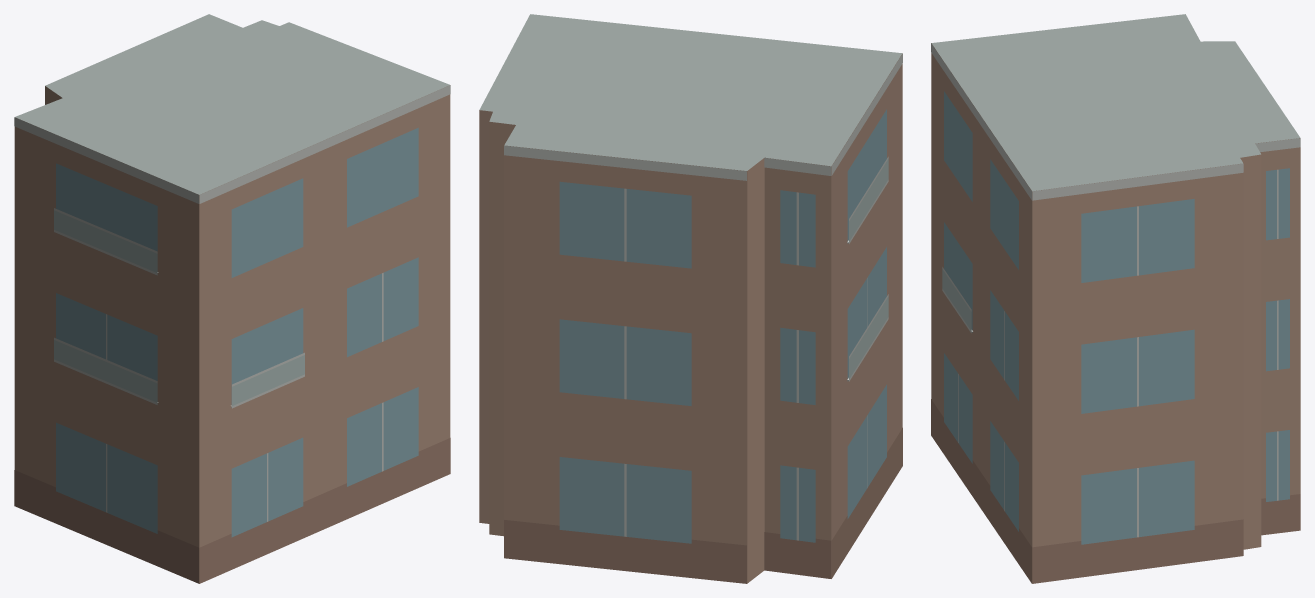
The model's file is survey-upis-32623040.glb.
The picture shows the model from 3 angles, left to right: view 1: azimuth 30°, elevation 25°; view 2: azimuth 150°, elevation 25°; view 3: azimuth 270°, elevation 25°; orthographic projection. The views are drawn at different scales.
Parts seen in each view (by area): view 1: survey-upis-32623040.tmp; view 2: survey-upis-32623040.tmp; view 3: survey-upis-32623040.tmp.
Boxes of the visible parts, <box> form: survey-upis-32623040.tmp: <box>14,14,450,583</box>; survey-upis-32623040.tmp: <box>479,14,902,583</box>; survey-upis-32623040.tmp: <box>931,14,1300,583</box>.
Size of the model in its own units: 9.89 by 10.2 by 8.71.
